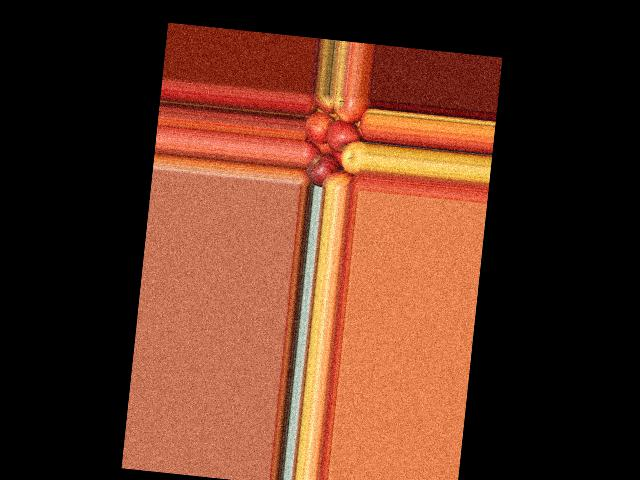apple: (304, 110, 335, 147)
